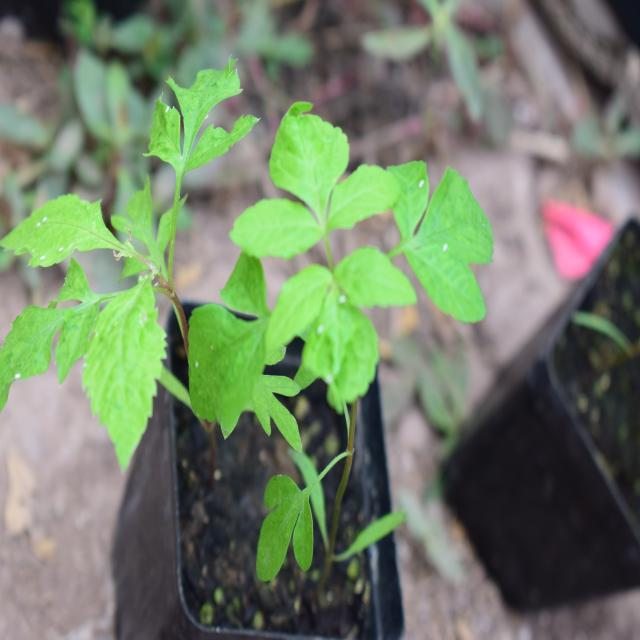Bidens pilosa: (217, 108, 502, 502), (10, 59, 226, 458)
